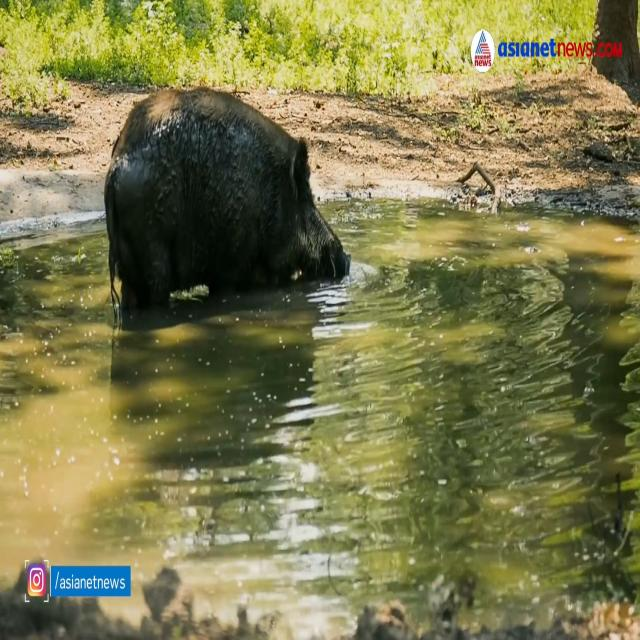WILD BOAR: (100, 69, 350, 298)
